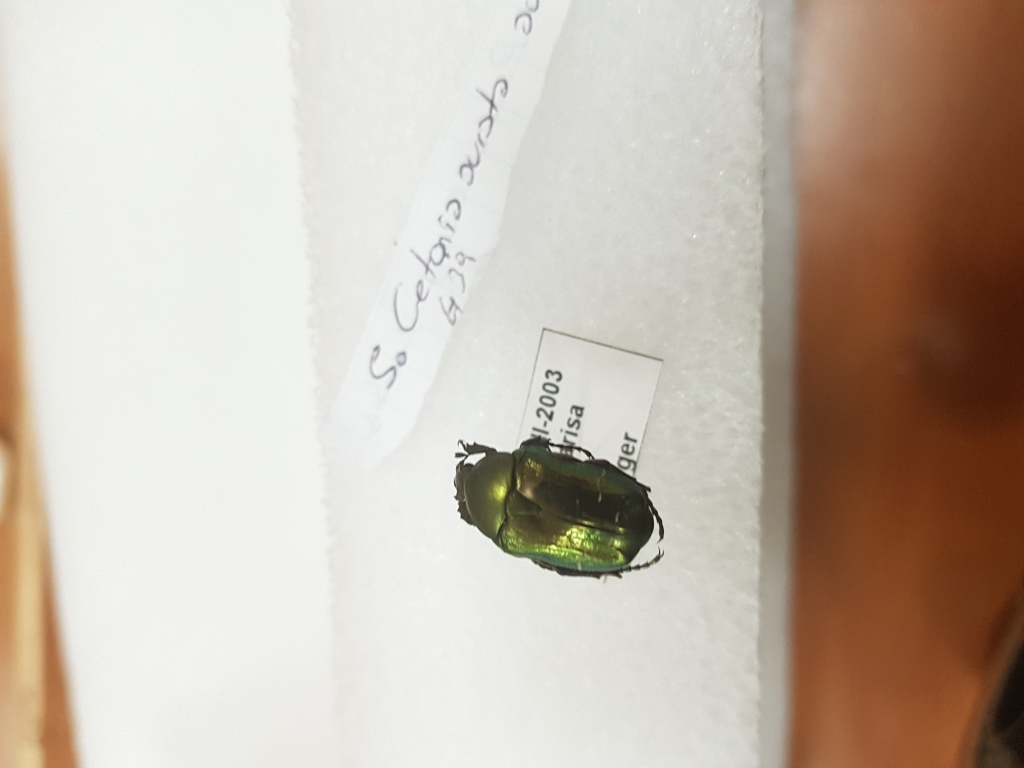Cetonia_aurata: (435, 430, 676, 585)
